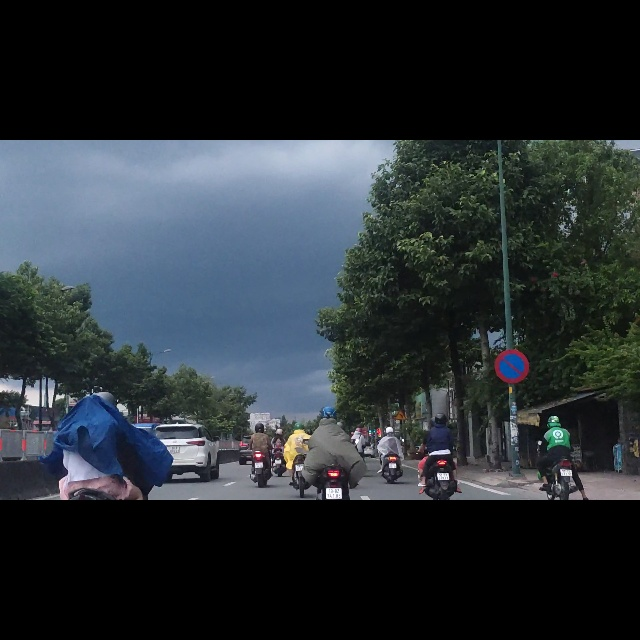bien_cam: (495, 372, 529, 433), (394, 479, 407, 498)
